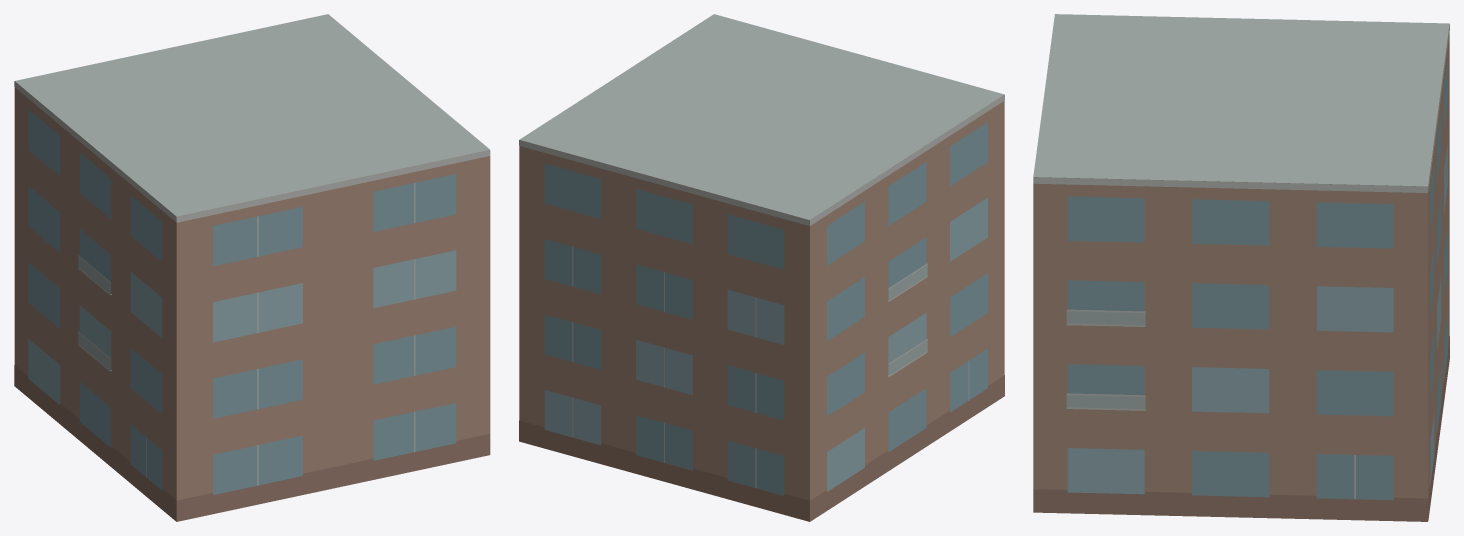
File: residential-72566420-2d88-4f0b-b01b-dab861430187.glb
3 renders of one model, left to right at view 1: azimuth 30°, elevation 25°; view 2: azimuth 150°, elevation 25°; view 3: azimuth 270°, elevation 25°, orthographic. The views are drawn at different scales.
Parts seen in each view (by area): view 1: residential-72566420-2d88-4f0b-b01b-dab861430187.tmp; view 2: residential-72566420-2d88-4f0b-b01b-dab861430187.tmp; view 3: residential-72566420-2d88-4f0b-b01b-dab861430187.tmp.
Boxes of the visible parts, left/top/right/bottom form: residential-72566420-2d88-4f0b-b01b-dab861430187.tmp: left=14, top=14, right=490, bottom=521; residential-72566420-2d88-4f0b-b01b-dab861430187.tmp: left=519, top=14, right=1004, bottom=521; residential-72566420-2d88-4f0b-b01b-dab861430187.tmp: left=1033, top=14, right=1449, bottom=521.
Size of the model in its own units: 13.45 by 12.2 by 13.74.
